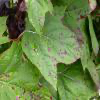Tomato leaf bacterial spot: (23, 22, 84, 92)
